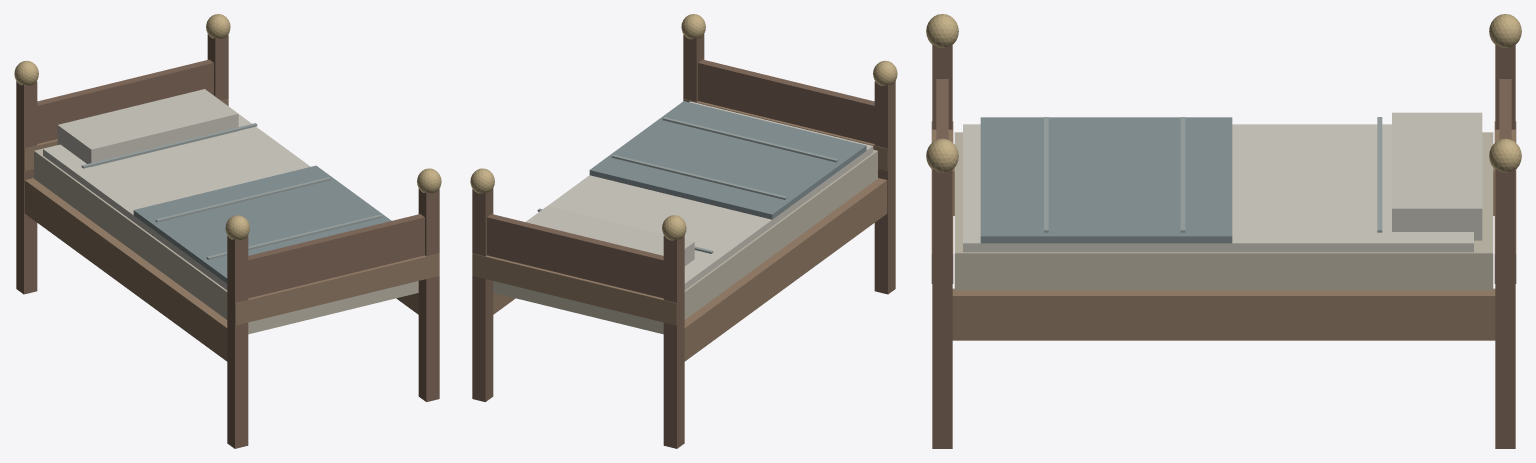
Rendered from ward-bed.glb.
3 renders of one model, left to right at view 1: azimuth 30°, elevation 25°; view 2: azimuth 150°, elevation 25°; view 3: azimuth 270°, elevation 25°, orthographic. The views are drawn at different scales.
Visible parts, largest first — view 1: wool-blanket, linen-sheet, side-rail-0.54, straw-mattress, pillow, foot-head-back-1.03, foot-head-back--1.03, foot-head-rail-1.03, bedpost--0.54-1.03, bedpost-0.54-1.03, bedpost--0.54--1.03, bedpost-0.54--1.03 (+8 smaller); view 2: wool-blanket, linen-sheet, side-rail-0.54, straw-mattress, foot-head-back--1.03, foot-head-back-1.03, foot-head-rail--1.03, bedpost--0.54--1.03, bedpost-0.54--1.03, bedpost--0.54-1.03, pillow, bedpost-0.54-1.03 (+7 smaller); view 3: wool-blanket, side-rail0.54, linen-sheet, straw-mattress, pillow, bedpost-0.54--1.03, bedpost-0.54-1.03, bedpost--0.54--1.03, bedpost--0.54-1.03, finial--0.54--1.03, finial--0.54-1.03, finial-0.54--1.03 (+8 smaller).
Part boxes in pixels (x1,y1,x2,y2): wool-blanket: (133, 165, 391, 283); linen-sheet: (43, 114, 310, 290); side-rail-0.54: (24, 178, 227, 361); straw-mattress: (34, 145, 418, 334); pillow: (57, 89, 238, 166); foot-head-back-1.03: (248, 214, 424, 298); foot-head-back--1.03: (37, 59, 213, 143); foot-head-rail-1.03: (235, 253, 439, 325); bedpost--0.54-1.03: (227, 235, 248, 448); bedpost-0.54-1.03: (418, 188, 439, 401); bedpost--0.54--1.03: (16, 81, 37, 294); bedpost-0.54--1.03: (207, 34, 228, 100); wool-blanket: (589, 101, 866, 219); linen-sheet: (548, 101, 873, 290); side-rail-0.54: (684, 178, 887, 361); straw-mattress: (493, 149, 877, 334); foot-head-back--1.03: (487, 214, 663, 298); foot-head-back-1.03: (698, 59, 874, 143); foot-head-rail--1.03: (472, 253, 676, 325); bedpost--0.54--1.03: (663, 235, 684, 448); bedpost-0.54--1.03: (472, 188, 493, 401); bedpost--0.54-1.03: (874, 81, 895, 294); pillow: (525, 206, 694, 266); bedpost-0.54-1.03: (683, 34, 704, 101); wool-blanket: (980, 117, 1232, 243); side-rail0.54: (952, 288, 1495, 340); linen-sheet: (963, 124, 1473, 252); straw-mattress: (954, 132, 1493, 290); pillow: (1392, 112, 1482, 240); bedpost-0.54--1.03: (1495, 168, 1515, 448); bedpost-0.54-1.03: (932, 168, 952, 448); bedpost--0.54--1.03: (1495, 44, 1515, 129); bedpost--0.54-1.03: (932, 44, 952, 129); finial--0.54--1.03: (1489, 14, 1521, 47); finial--0.54-1.03: (926, 14, 958, 47); finial-0.54--1.03: (1489, 138, 1521, 172).
Bounding box in the file's own units: 1.2 × 1.23 × 2.18.
